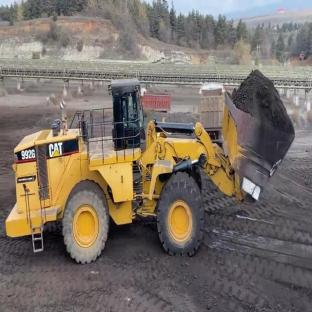ExcavationMachinery: (103, 68, 303, 259)
Vehicle: (195, 74, 229, 141)
